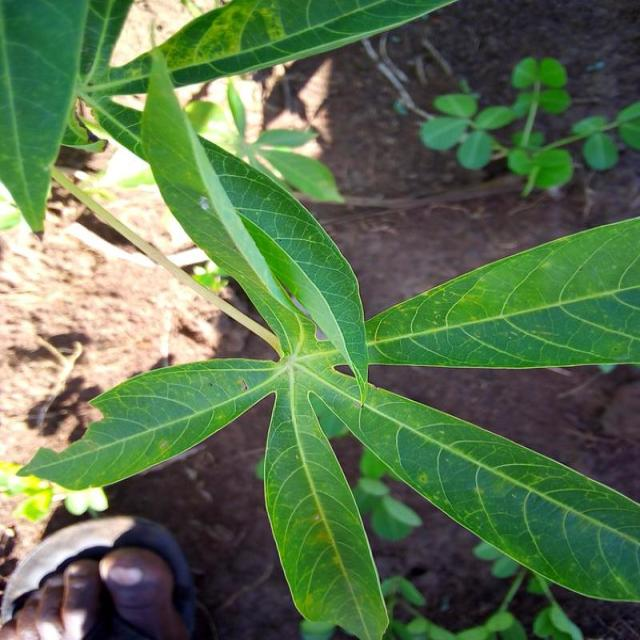cassava leaf: (16, 51, 639, 637), (140, 47, 370, 403), (364, 213, 640, 370)
